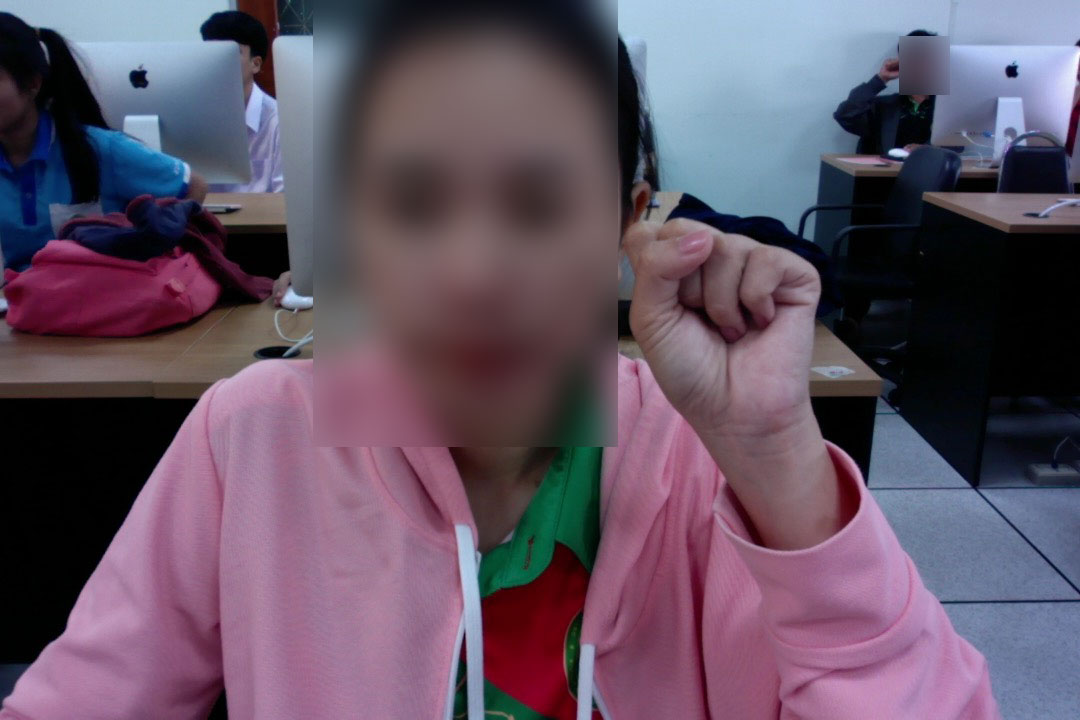sor: (615, 212, 827, 443)
